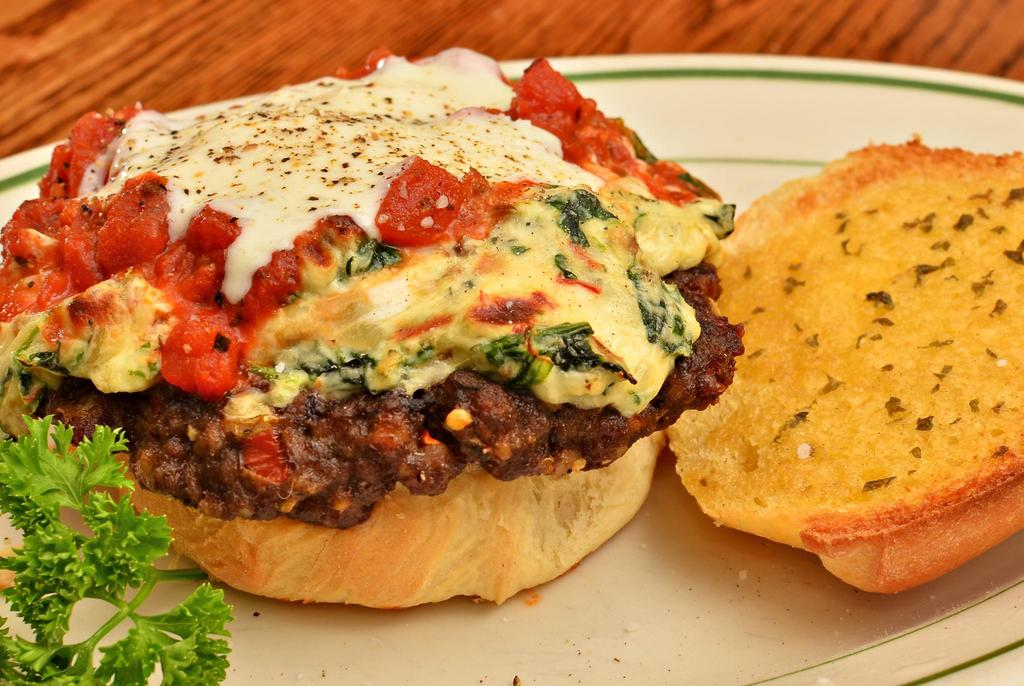Hamburger: (0, 47, 1023, 609)
